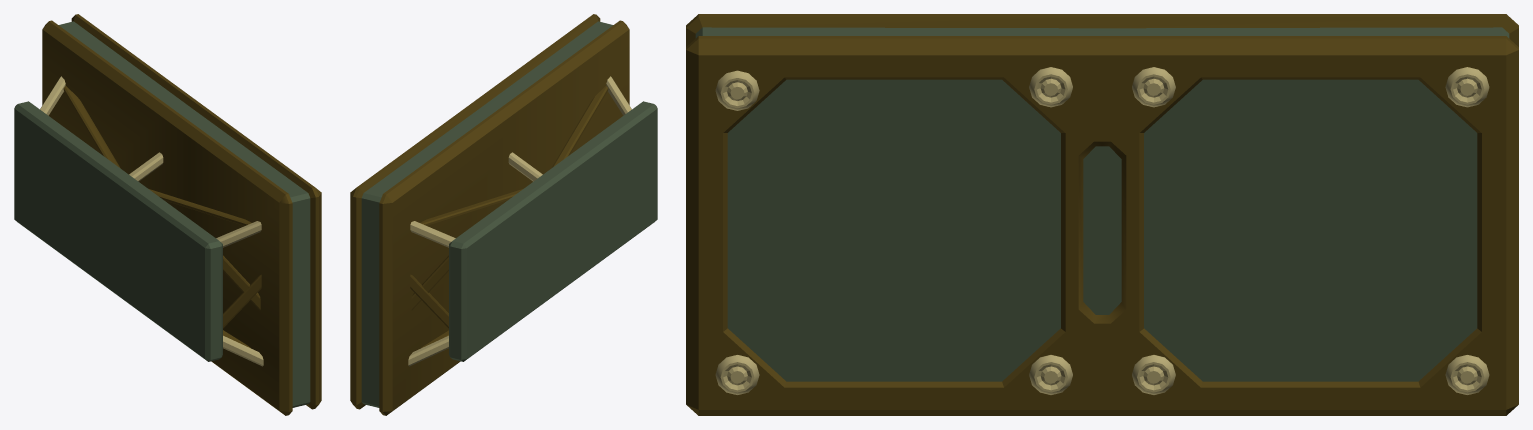
File: OBJ_Platform_Wall_Ride.fbx
3 renders of one model, left to right at view 1: azimuth 30°, elevation 25°; view 2: azimuth 150°, elevation 25°; view 3: azimuth 270°, elevation 25°, orthographic. The views are drawn at different scales.
Visible parts, largest first — view 1: Box142; view 2: Box142; view 3: Box142.
Boxes of the visible parts, left/top/right/bottom form: Box142: left=14, top=14, right=321, bottom=415; Box142: left=350, top=14, right=657, bottom=415; Box142: left=686, top=14, right=1518, bottom=415.
Bounding box in the file's own units: 457 × 1000 × 2000.
